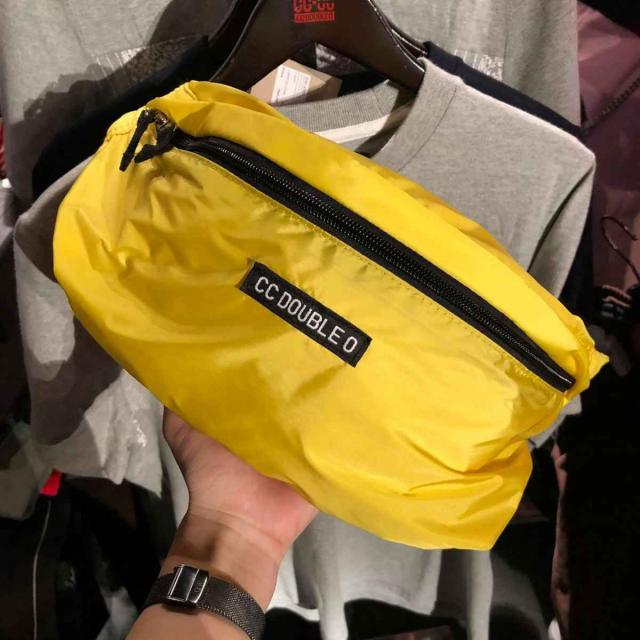handbag: (51, 78, 600, 554)
